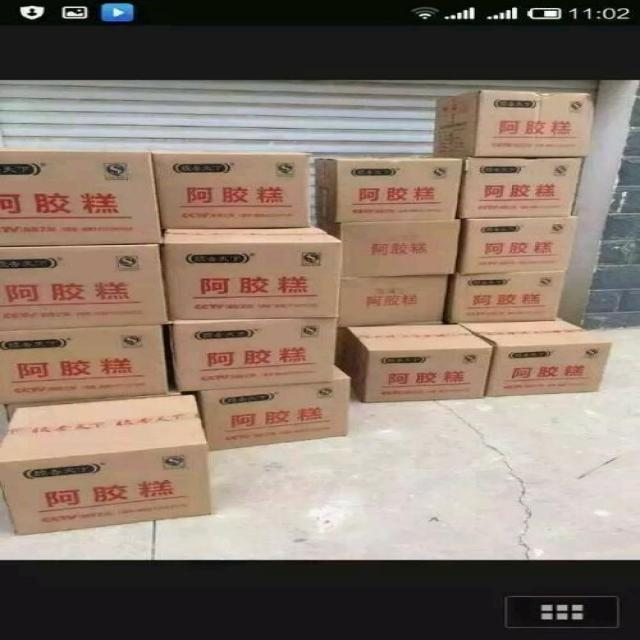box: (0, 394, 212, 535), (161, 226, 341, 320), (0, 149, 162, 248), (0, 245, 168, 330), (0, 326, 171, 407), (197, 365, 349, 451), (152, 149, 309, 229), (168, 317, 337, 391), (339, 323, 494, 403), (460, 320, 613, 398), (432, 90, 593, 158), (313, 157, 460, 222), (316, 217, 460, 276), (458, 158, 583, 217), (457, 217, 576, 273), (445, 271, 565, 324), (339, 274, 447, 328)
